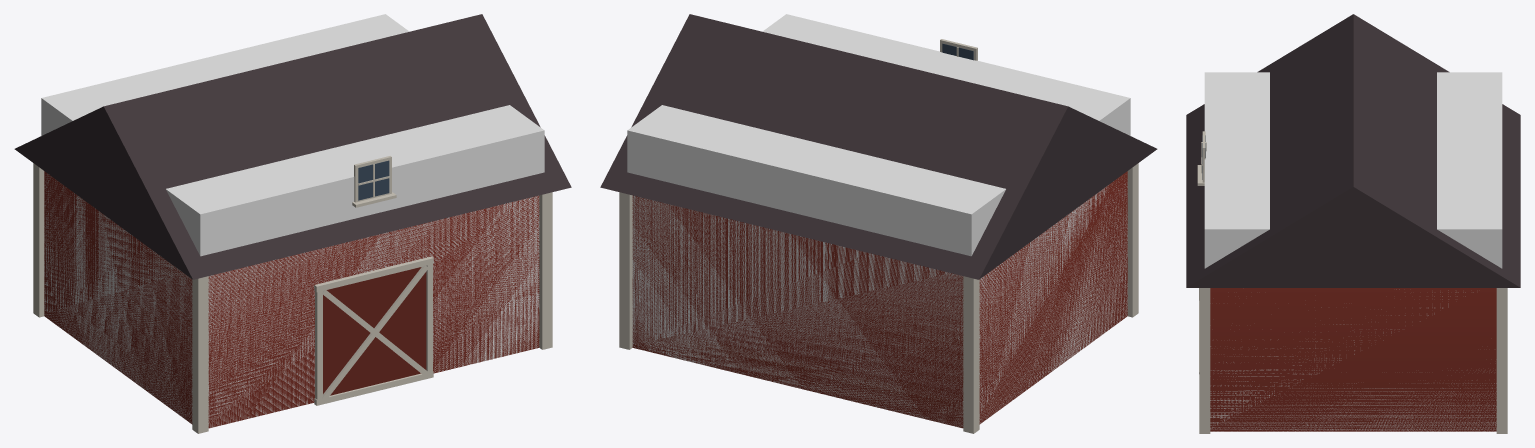
File: granero.glb
3 views of the same model, side by side, from view 1: azimuth 30°, elevation 25°; view 2: azimuth 150°, elevation 25°; view 3: azimuth 270°, elevation 25° (orthographic). The views are drawn at different scales.
Parts seen in each view (by area): view 1: granero_Malla, COL_0; view 2: granero_Malla, COL_0; view 3: granero_Malla, COL_0.
Part boxes in pixels (bbox=[...]): granero_Malla: bbox=[14, 14, 571, 433]; COL_0: bbox=[41, 14, 544, 427]; granero_Malla: bbox=[600, 14, 1157, 433]; COL_0: bbox=[627, 14, 1130, 427]; granero_Malla: bbox=[1186, 14, 1520, 433]; COL_0: bbox=[1204, 72, 1502, 431].
Bounding box in the file's own units: 11 × 7.53 × 9.
